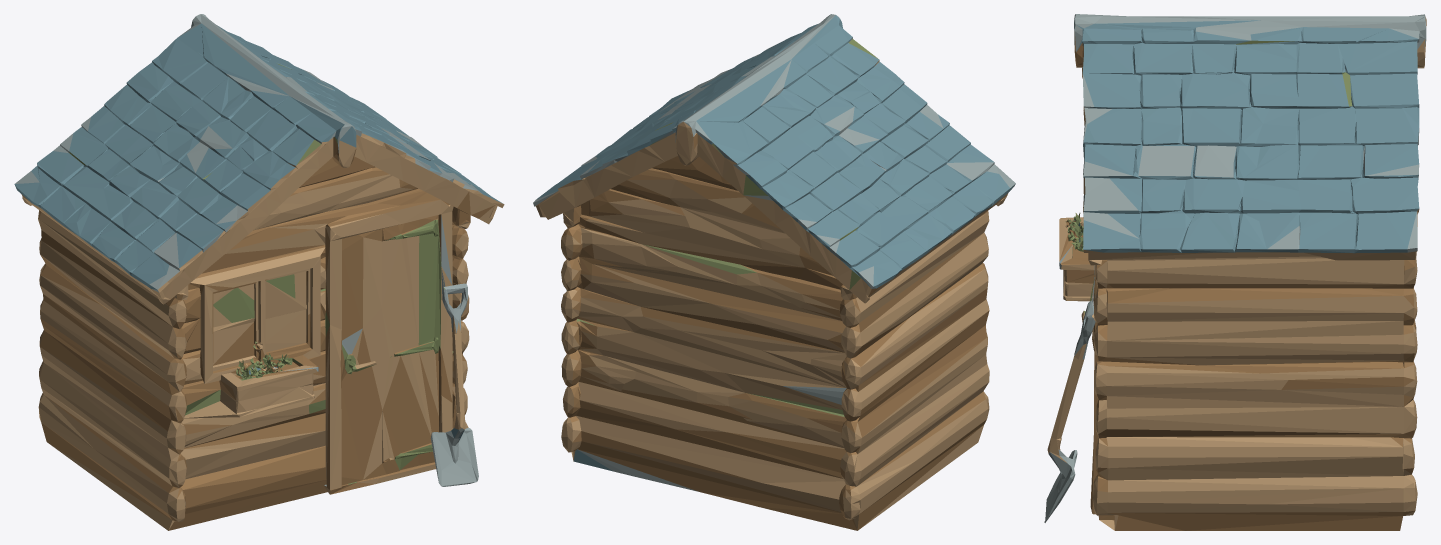
File: potting_shed.glb
3 renders of one model, left to right at view 1: azimuth 30°, elevation 25°; view 2: azimuth 150°, elevation 25°; view 3: azimuth 270°, elevation 25°, orthographic. The views are drawn at different scales.
Visible parts, largest first — view 1: geometry_0; view 2: geometry_0; view 3: geometry_0.
Part boxes in pixels (<box>): geometry_0: <box>14,14,504,530</box>; geometry_0: <box>533,14,1015,530</box>; geometry_0: <box>1044,14,1426,530</box>.
Bounding box in the file's own units: 2.6 × 2.7 × 2.1.
